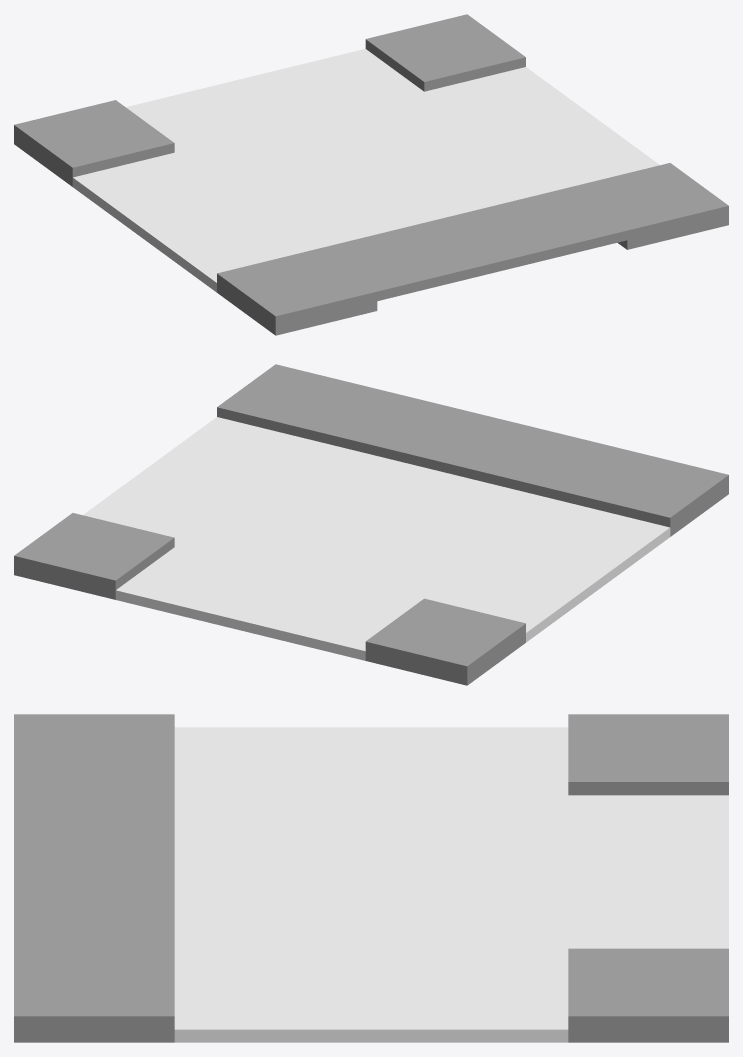
File: road_JL_49.gltf
The picture shows the model from 3 angles, top to bottom: view 1: azimuth 30°, elevation 25°; view 2: azimuth 150°, elevation 25°; view 3: azimuth 270°, elevation 25°; orthographic projection. The views are drawn at different scales.
Parts seen in each view (by area): view 1: tar, stone, ink; view 2: tar, stone, ink; view 3: tar, stone, ink.
Part boxes in pixels (box(x1,y1,x2,y2)): tar: box(78, 51, 659, 288); stone: box(14, 14, 728, 335); ink: box(72, 48, 600, 292); tar: box(83, 421, 664, 658); stone: box(14, 364, 728, 685); ink: box(115, 417, 670, 660); tar: box(189, 727, 728, 1042); stone: box(14, 714, 728, 1042); ink: box(174, 727, 728, 1042).
Bounding box in the file's own units: 49 × 2 × 49.
Materials: 3 (3 with a texture image).
